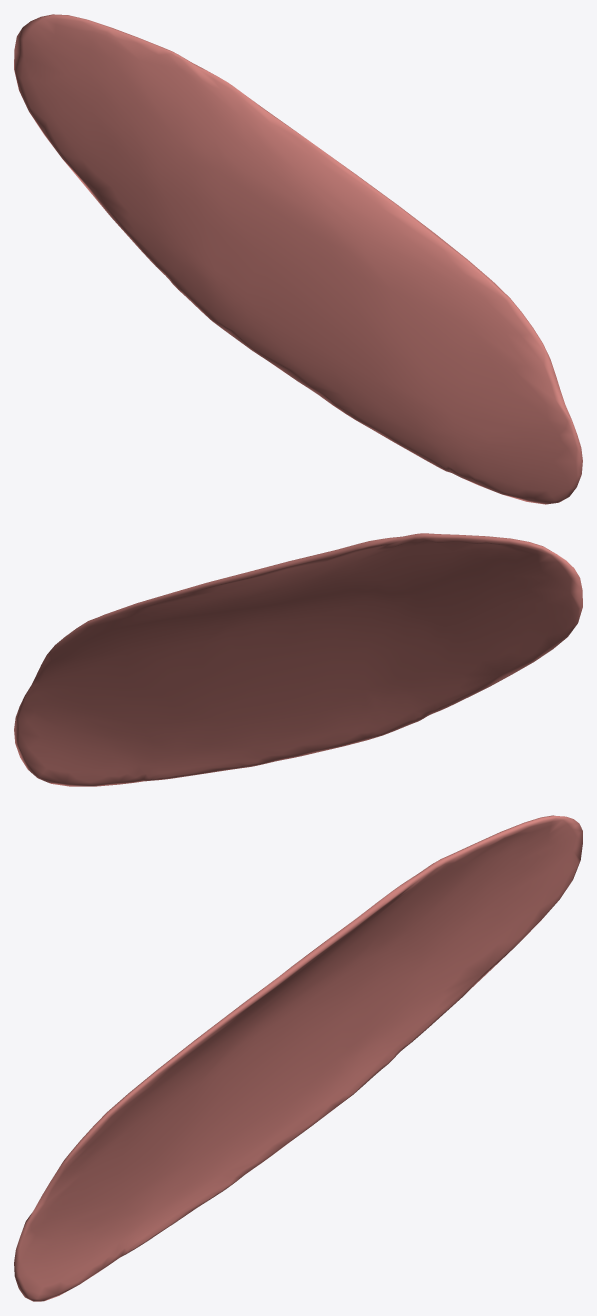
The picture shows the model from 3 angles, top to bottom: view 1: azimuth 30°, elevation 25°; view 2: azimuth 210°, elevation 25°; view 3: azimuth 270°, elevation 25°; orthographic projection.
Parts seen in each view (by area): view 1: ZA_2c9f4ce8b3b8990e; view 2: ZA_2c9f4ce8b3b8990e; view 3: ZA_2c9f4ce8b3b8990e.
Part boxes in pixels (x1=…): ZA_2c9f4ce8b3b8990e: x1=14, y1=14, x2=582, y2=504; ZA_2c9f4ce8b3b8990e: x1=14, y1=533, x2=582, y2=786; ZA_2c9f4ce8b3b8990e: x1=14, y1=815, x2=582, y2=1301.
Size of the model in its own units: 0.023 by 0.0277 by 0.0386.
